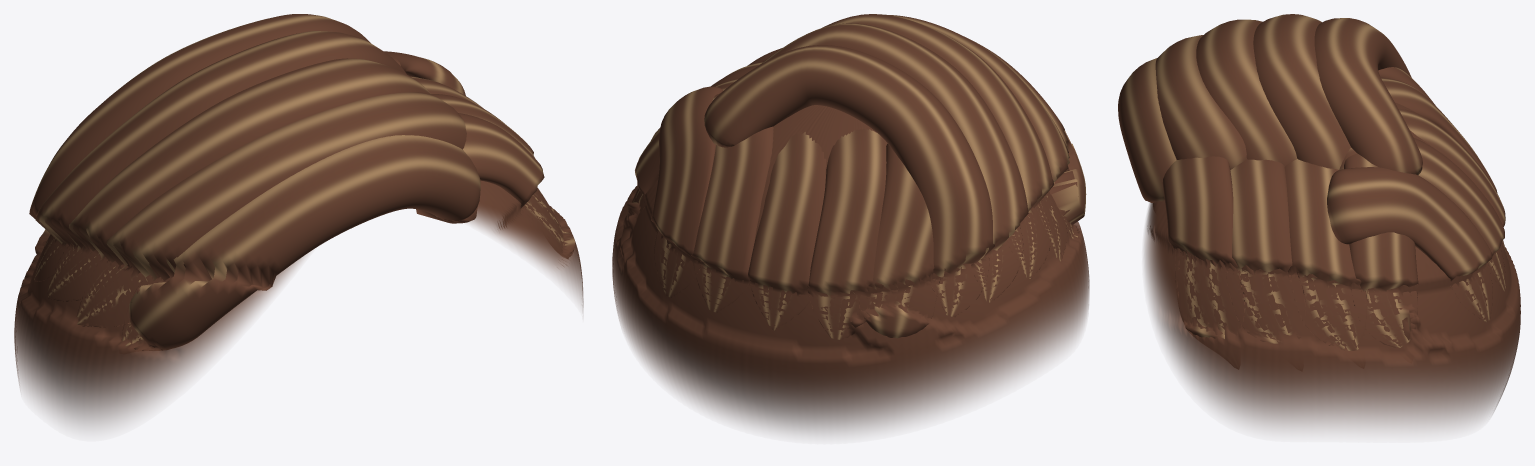
File: Highlights-253605f3c624252-hair.glb
The picture shows the model from 3 angles, left to right: view 1: azimuth 30°, elevation 25°; view 2: azimuth 150°, elevation 25°; view 3: azimuth 270°, elevation 25°; orthographic projection. The views are drawn at different scales.
Parts seen in each view (by area): view 1: 226 hair / Hair252 / sculpted locks.001, 226 hair / Hair252 / gentle tonal variation.001, 226 hair / Hair252 / restored153 fade coverage.001; view 2: 226 hair / Hair252 / sculpted locks.001, 226 hair / Hair252 / restored153 fade coverage.001, 226 hair / Hair252 / gentle tonal variation.001; view 3: 226 hair / Hair252 / sculpted locks.001, 226 hair / Hair252 / restored153 fade coverage.001, 226 hair / Hair252 / gentle tonal variation.001.
Part boxes in pixels (x1=…): 226 hair / Hair252 / sculpted locks.001: x1=29, y1=14, x2=556, y2=327; 226 hair / Hair252 / gentle tonal variation.001: x1=121, y1=113, x2=574, y2=350; 226 hair / Hair252 / restored153 fade coverage.001: x1=14, y1=180, x2=583, y2=426; 226 hair / Hair252 / sculpted locks.001: x1=626, y1=14, x2=1078, y2=338; 226 hair / Hair252 / restored153 fade coverage.001: x1=612, y1=105, x2=1089, y2=434; 226 hair / Hair252 / gentle tonal variation.001: x1=747, y1=36, x2=1086, y2=339; 226 hair / Hair252 / sculpted locks.001: x1=1155, y1=14, x2=1507, y2=350; 226 hair / Hair252 / restored153 fade coverage.001: x1=1144, y1=101, x2=1520, y2=429; 226 hair / Hair252 / gentle tonal variation.001: x1=1118, y1=58, x2=1497, y2=338.
Size of the model in its own units: 0.976 by 0.7527 by 0.7562.
3 materials, 3 textured.
